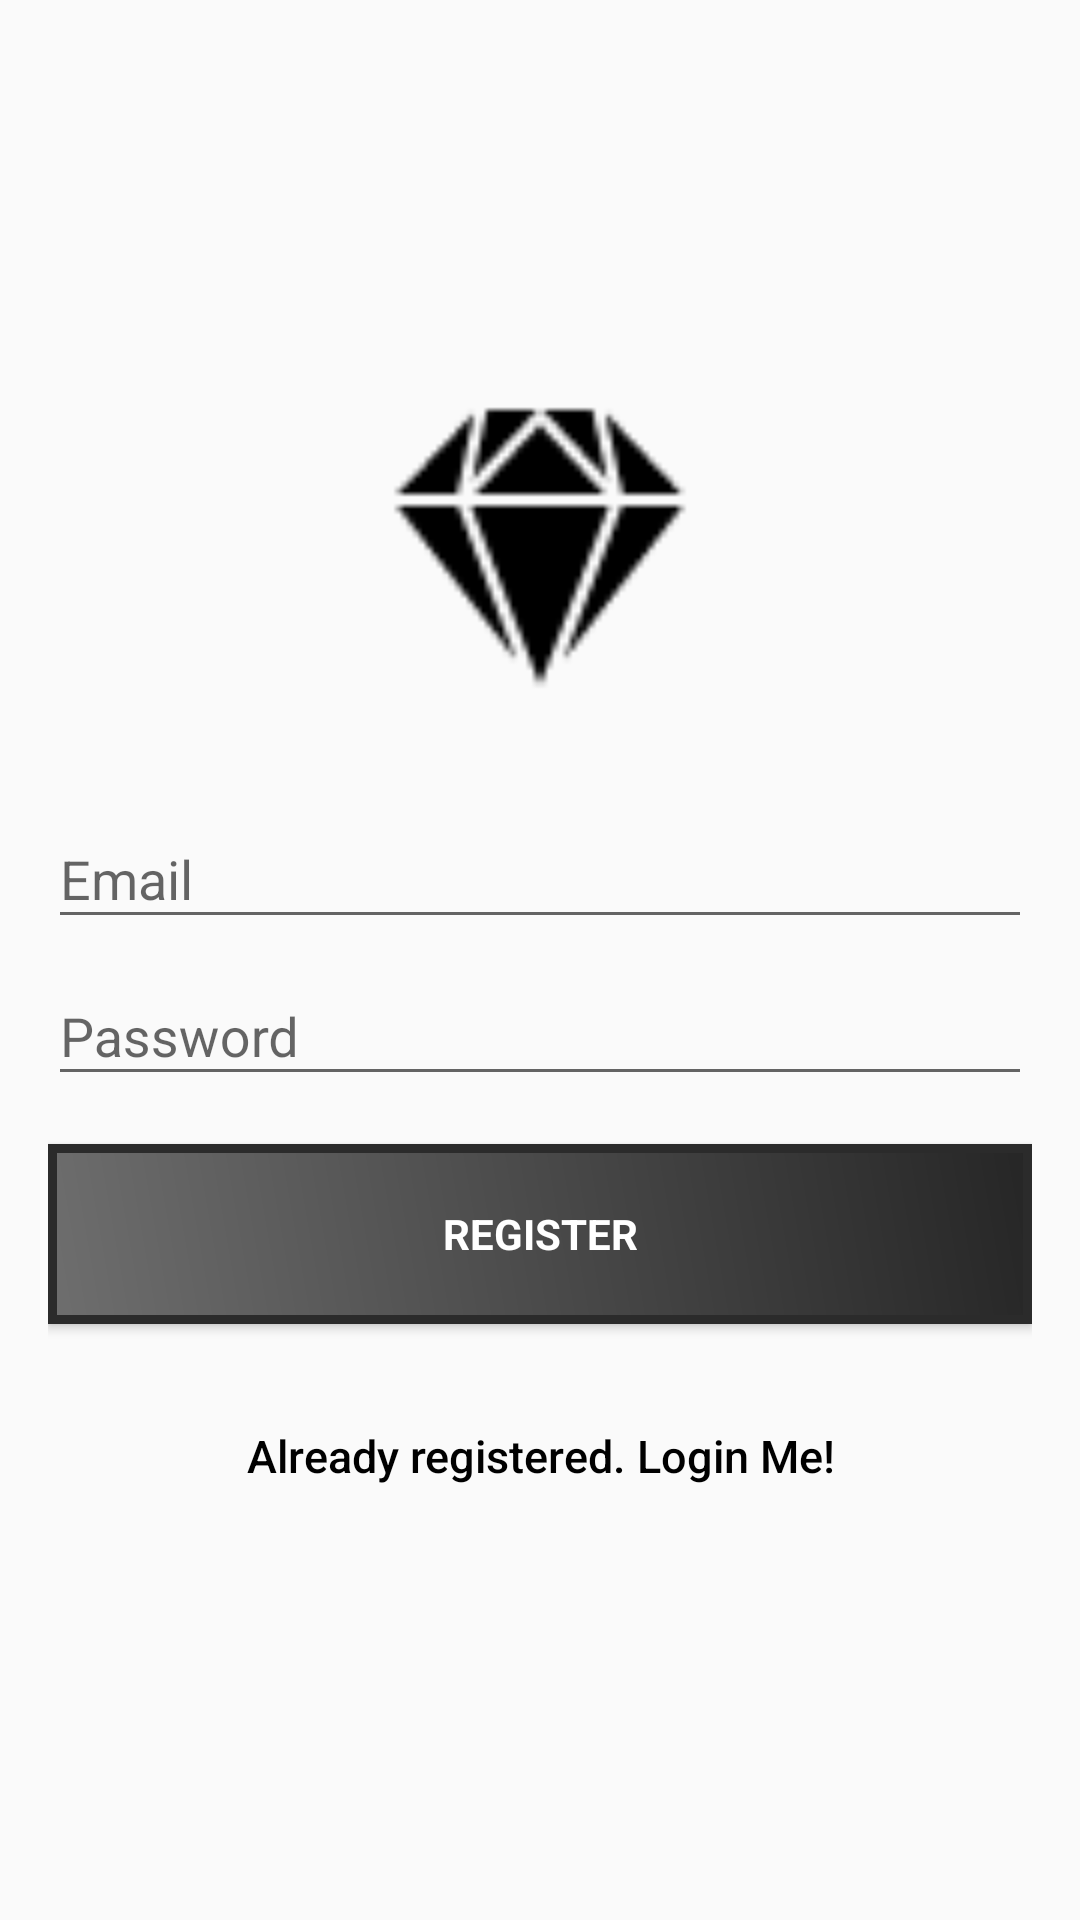

Icons on this 1080px x 1920px Android screen, each with the point to tap as point (x, y):
diamond: point (539, 546)
